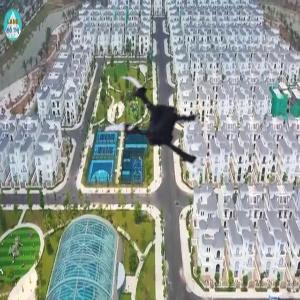drone: (87, 66, 216, 195)
